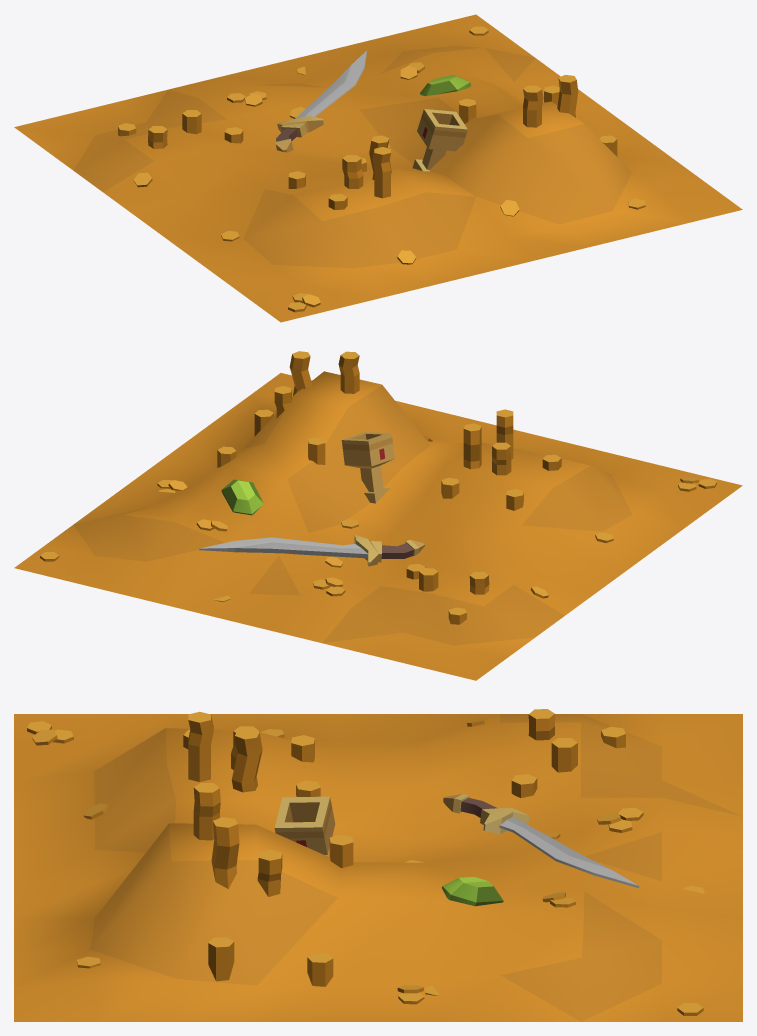
Rendered from ST_Env_Gold_Flat_03.fbx.
The picture shows the model from 3 angles, top to bottom: view 1: azimuth 30°, elevation 25°; view 2: azimuth 150°, elevation 25°; view 3: azimuth 270°, elevation 25°; orthographic projection. The views are drawn at different scales.
Visible parts, largest first — view 1: ST_Env_Gold_Flat_03; view 2: ST_Env_Gold_Flat_03; view 3: ST_Env_Gold_Flat_03.
Boxes of the visible parts, x1,y1,x2,y2 form: ST_Env_Gold_Flat_03: [14, 14, 742, 322]; ST_Env_Gold_Flat_03: [14, 351, 742, 680]; ST_Env_Gold_Flat_03: [14, 709, 742, 1021].
Size of the model in its own units: 5 by 1.08 by 5.
